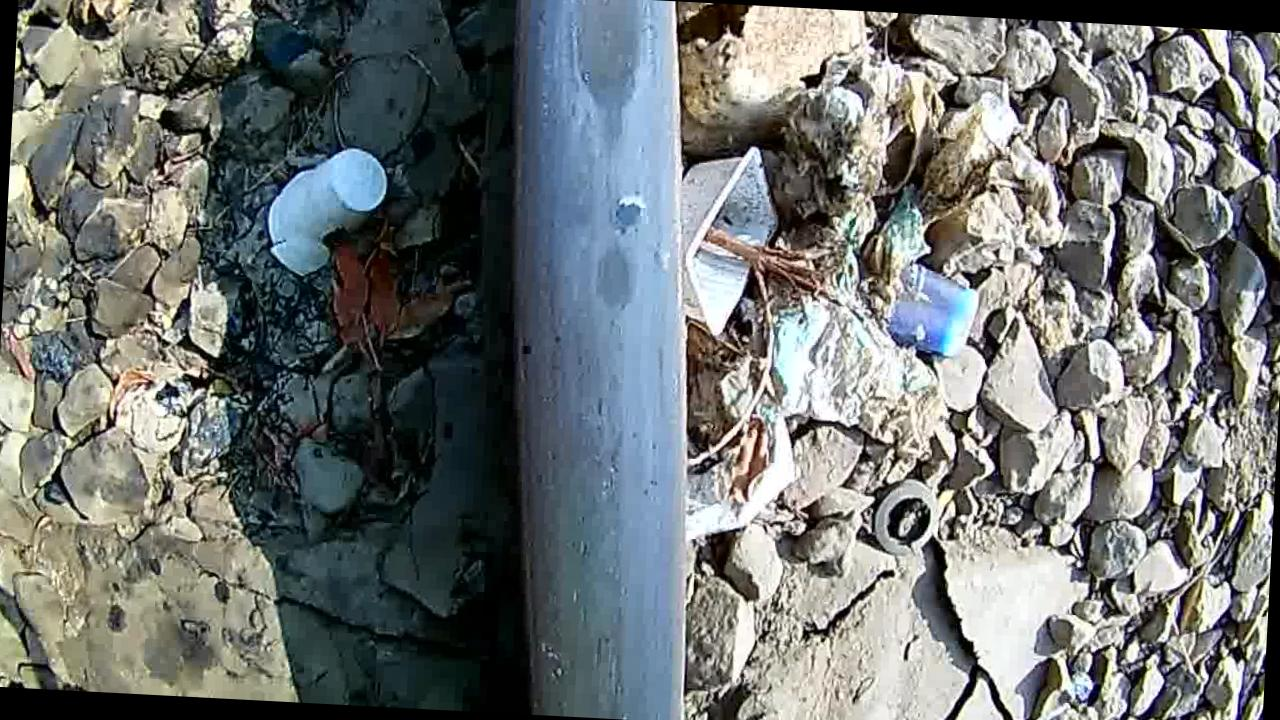bolt_missing: (542, 0, 678, 342)
